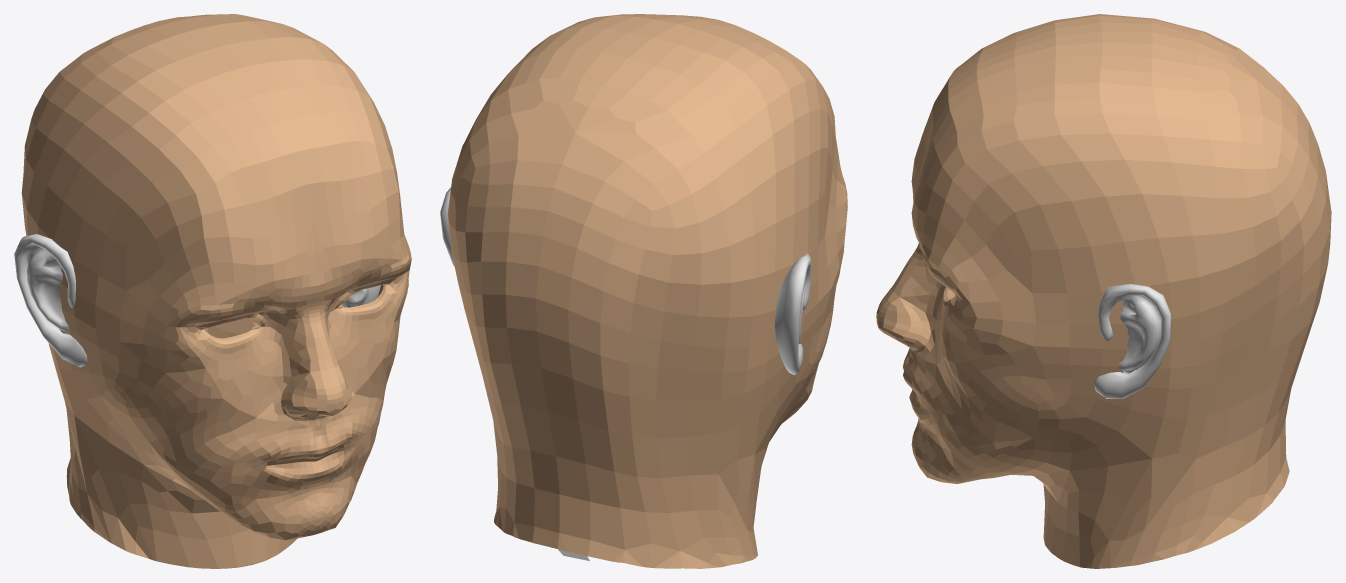
File: head.fbx
3 views of the same model, side by side, from view 1: azimuth 30°, elevation 25°; view 2: azimuth 150°, elevation 25°; view 3: azimuth 270°, elevation 25° (orthographic). The views are drawn at different scales.
Parts seen in each view (by area): view 1: cabeza_4, ear; view 2: cabeza_4, ear; view 3: cabeza_4, ear.
Part boxes in pixels (box(x1,y1,x2,y2)): cabeza_4: box(21, 14, 411, 568); ear: box(14, 234, 87, 367); cabeza_4: box(447, 14, 847, 568); ear: box(440, 187, 811, 374); cabeza_4: box(876, 14, 1331, 568); ear: box(1094, 284, 1170, 398).
Bounding box in the file's own units: 396 × 537 × 446.
